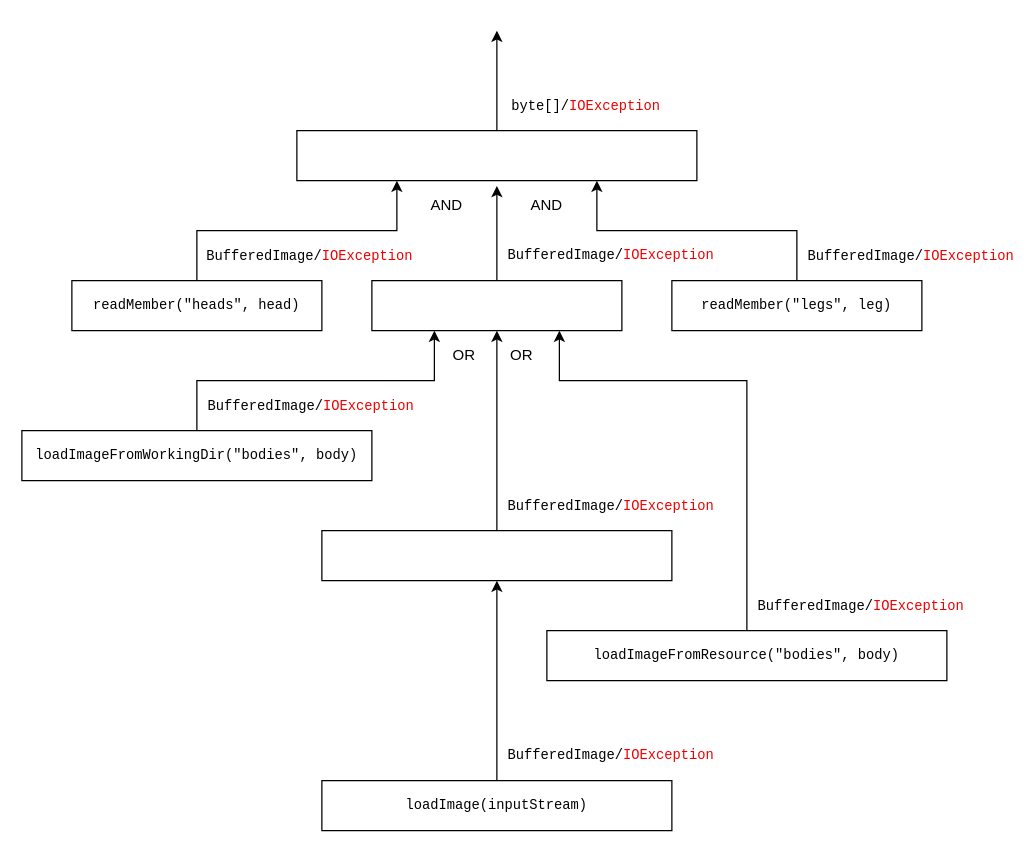
Image size: 1035x853. Some labels were removed from this diagram. The centre of each missing label's shape, as x and y in pixels:
bear(head, body, leg): (x=496, y=155)
loadImageFromSpecifiedDir("bodies", body): (x=496, y=555)
readMember("bodies", body): (x=496, y=305)
